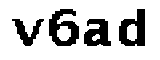6: (46, 6, 81, 50)
a: (82, 16, 113, 49)
d: (116, 6, 147, 51)
v: (10, 17, 43, 47)
